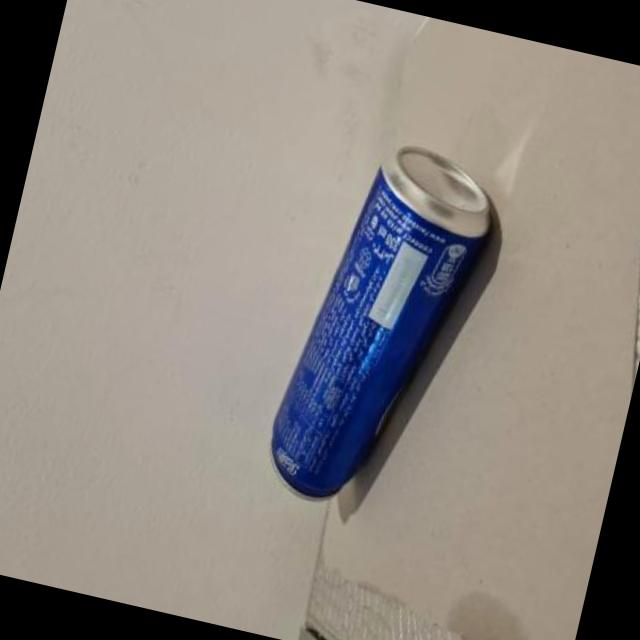metal: (268, 149, 485, 500)
